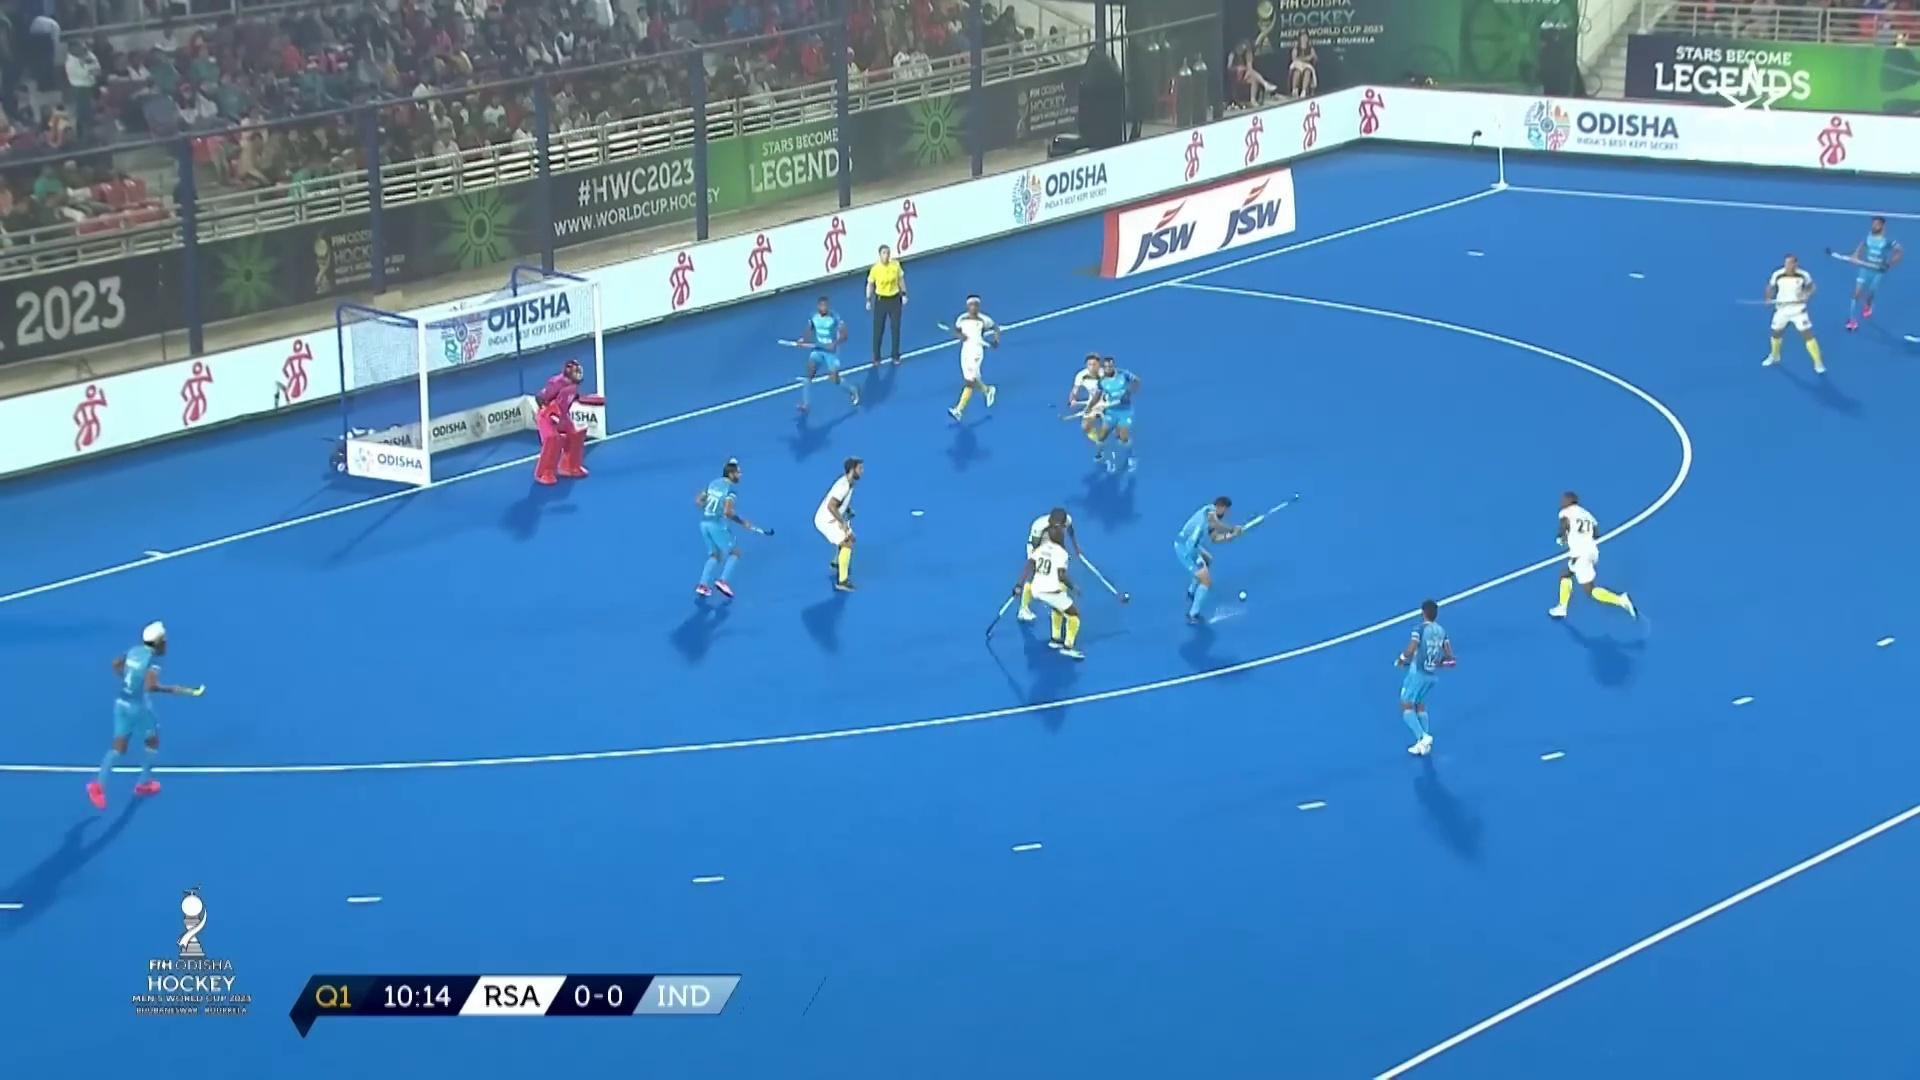ball: (1230, 574, 1261, 615)
